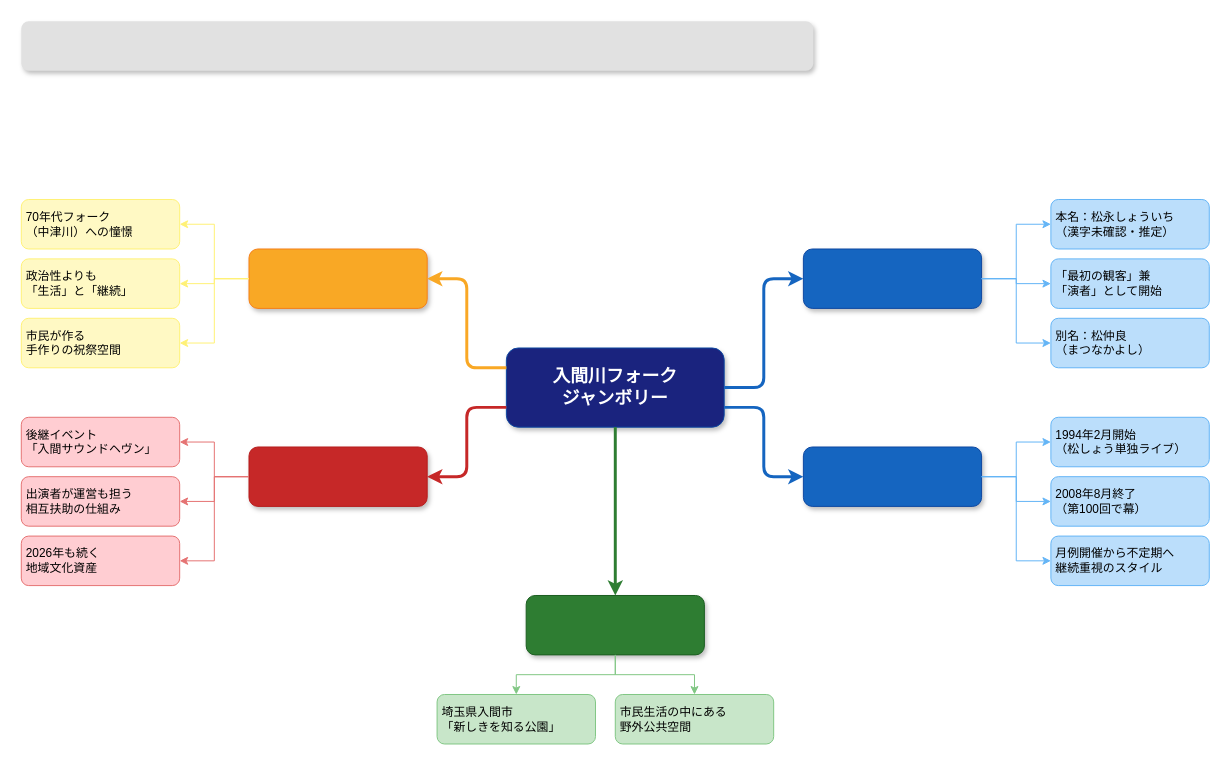
Image size: 1227x761. Some labels were removed from this diagram. Here are the shapes that lost their labels. From the top down, the centre of each, then its label:
At [418,47]: "入間川フォークジャンボリー：リサーチ結果マインドマップ".
At [338,279]: "思想と背景".
At [893,279]: "発起人：松しょう氏".
At [338,477]: "コミュニティと継承".
At [893,477]: "14年の歴史と変遷".
At [615,626]: "開催場所と地域性".
